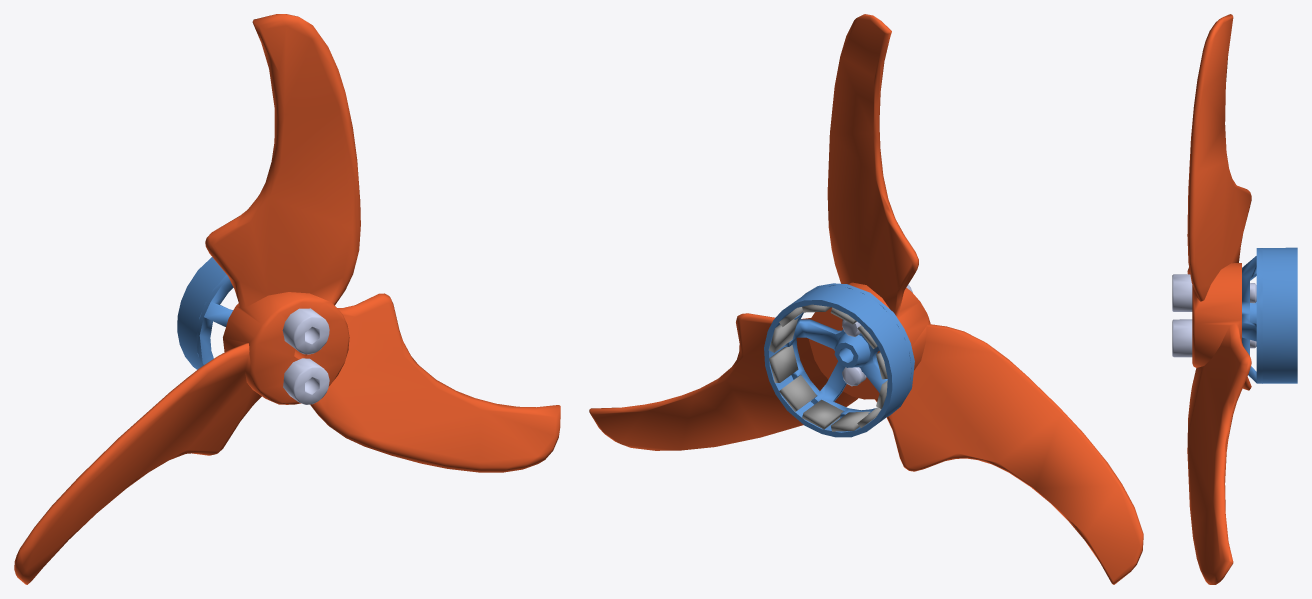
File: vmg_cw.obj
3 views of the same model, side by side, from view 1: azimuth 30°, elevation 25°; view 2: azimuth 150°, elevation 25°; view 3: azimuth 270°, elevation 25° (orthographic). The views are drawn at different scales.
Parts seen in each view (by area): view 1: vmg_cw; view 2: vmg_cw; view 3: vmg_cw.
Boxes of the visible parts, <box> form: vmg_cw: <box>14,14,560,584</box>; vmg_cw: <box>589,14,1143,584</box>; vmg_cw: <box>1172,14,1297,584</box>.
Bounding box in the file's own units: 0.0576 × 0.051 × 0.0126.
